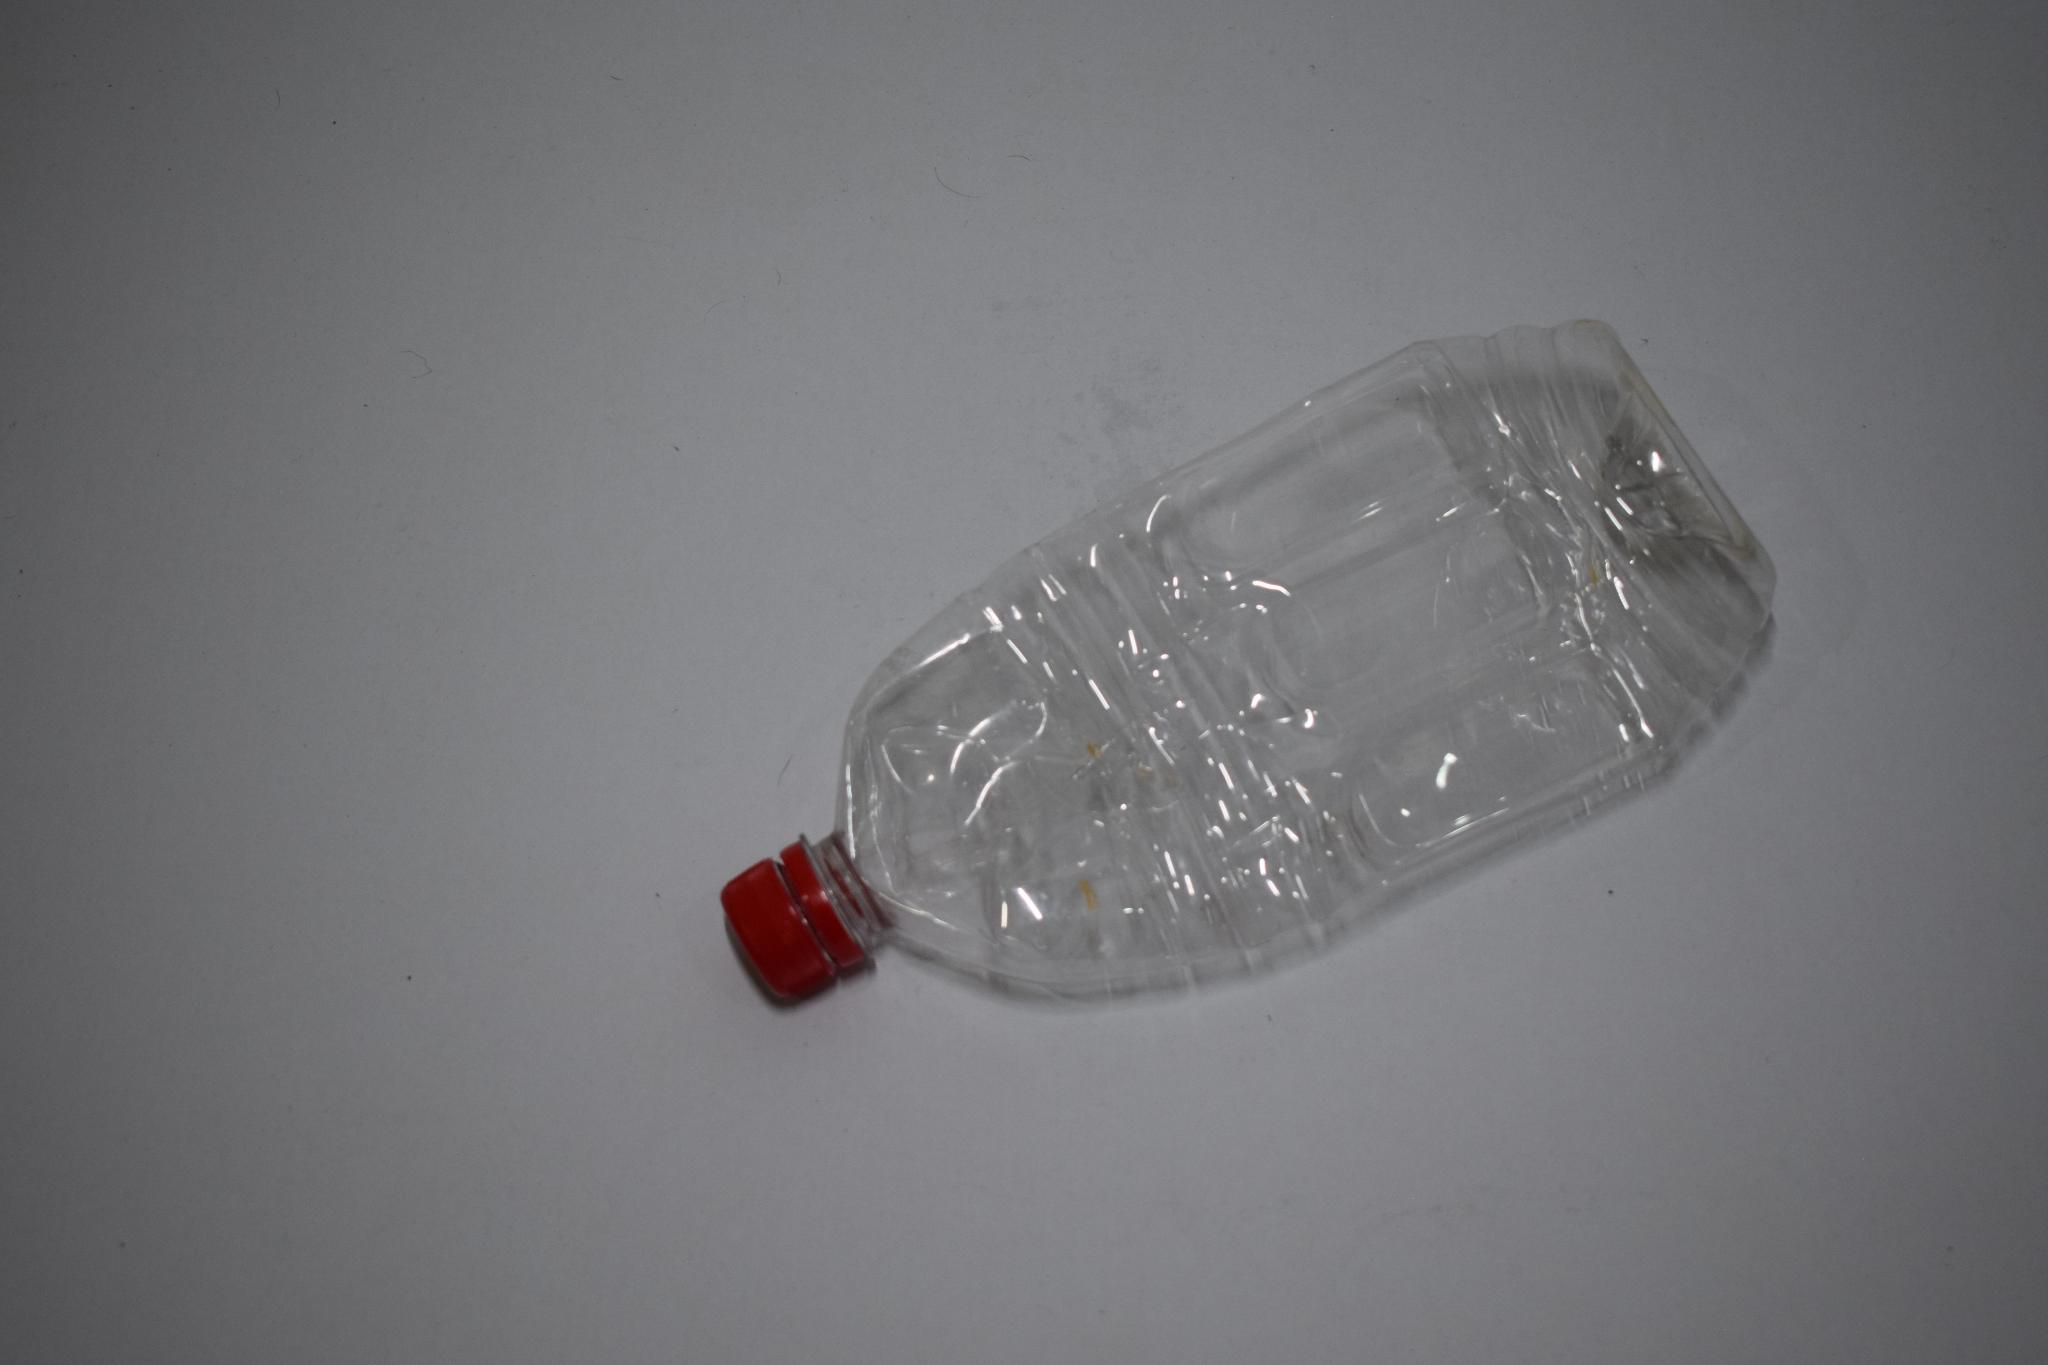bottle: (714, 322, 1796, 1026)
